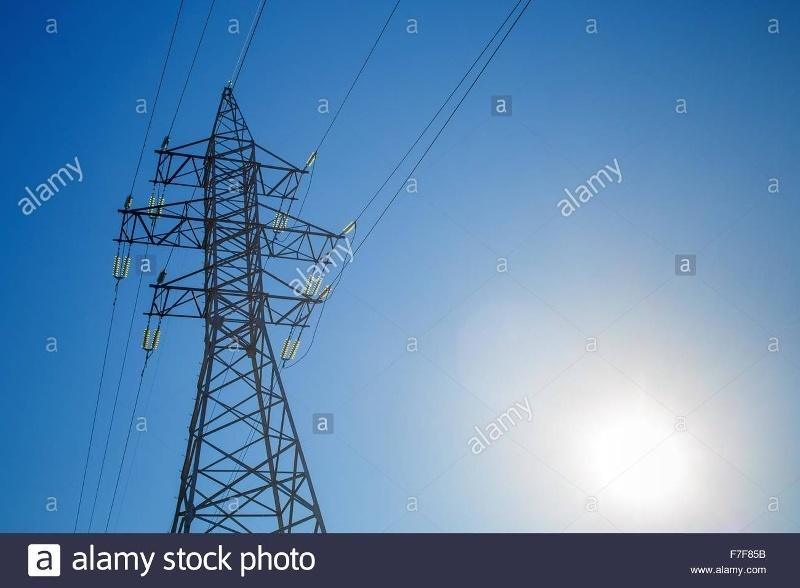power_tower: (110, 84, 359, 533)
